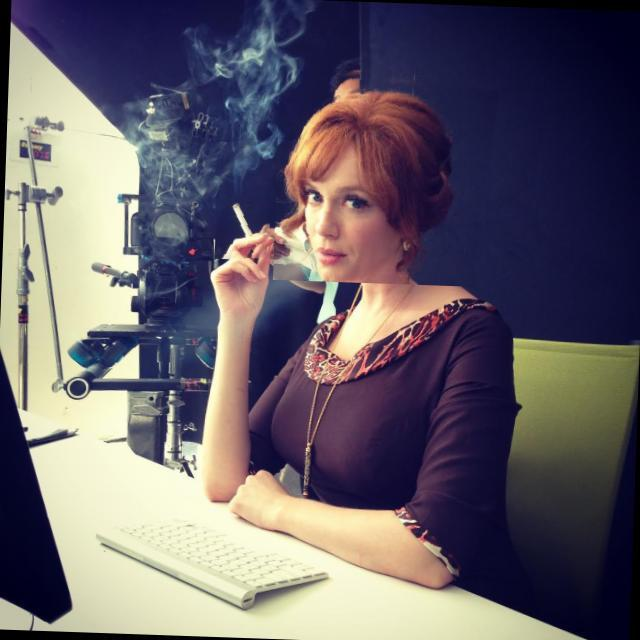cigarette: (214, 192, 274, 262)
